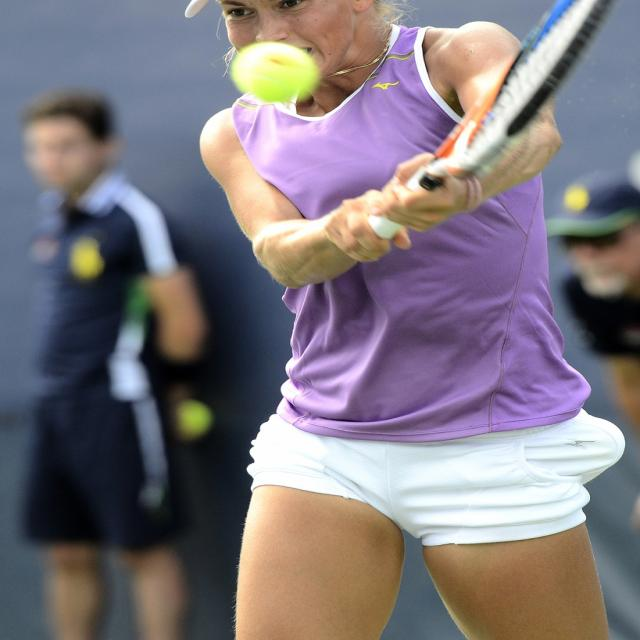Tennis-Ball: (227, 40, 321, 106), (180, 397, 212, 434)
